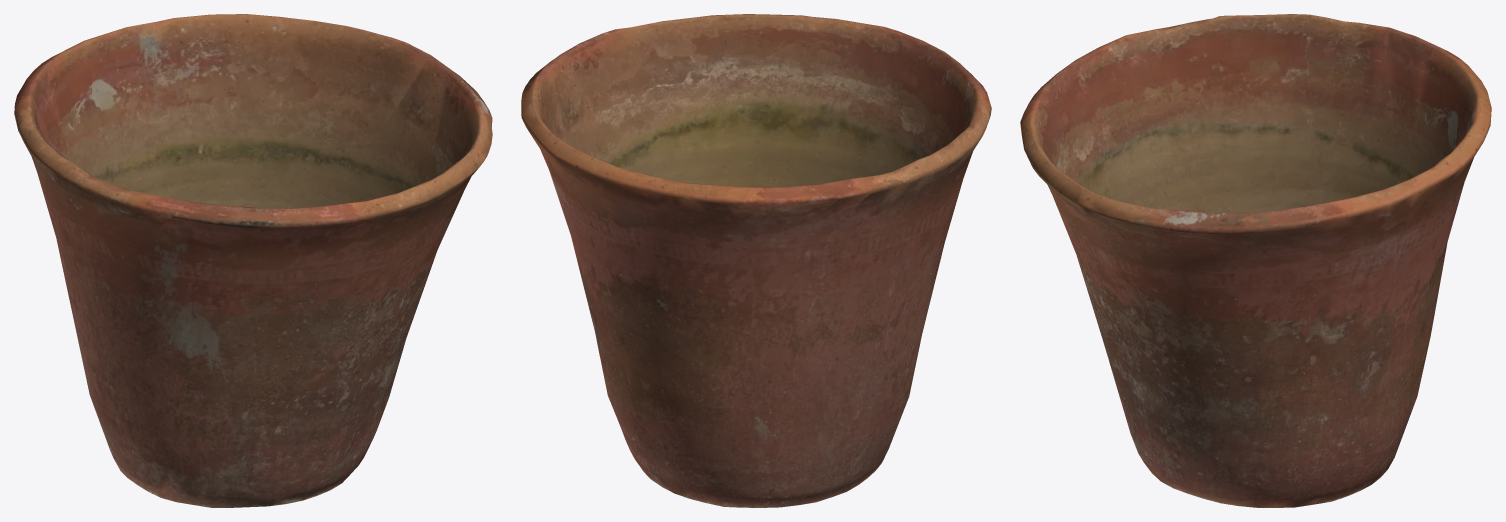
3 renders of one model, left to right at view 1: azimuth 30°, elevation 25°; view 2: azimuth 150°, elevation 25°; view 3: azimuth 270°, elevation 25°, orthographic.
Visible parts, largest first — view 1: planter_pot_clay; view 2: planter_pot_clay; view 3: planter_pot_clay.
Part boxes in pixels (<box>): planter_pot_clay: <box>14,14,492,507</box>; planter_pot_clay: <box>521,14,991,507</box>; planter_pot_clay: <box>1020,14,1491,507</box>.
Bounding box in the file's own units: 0.266 × 0.2219 × 0.2635.
1 material, 1 textured.
